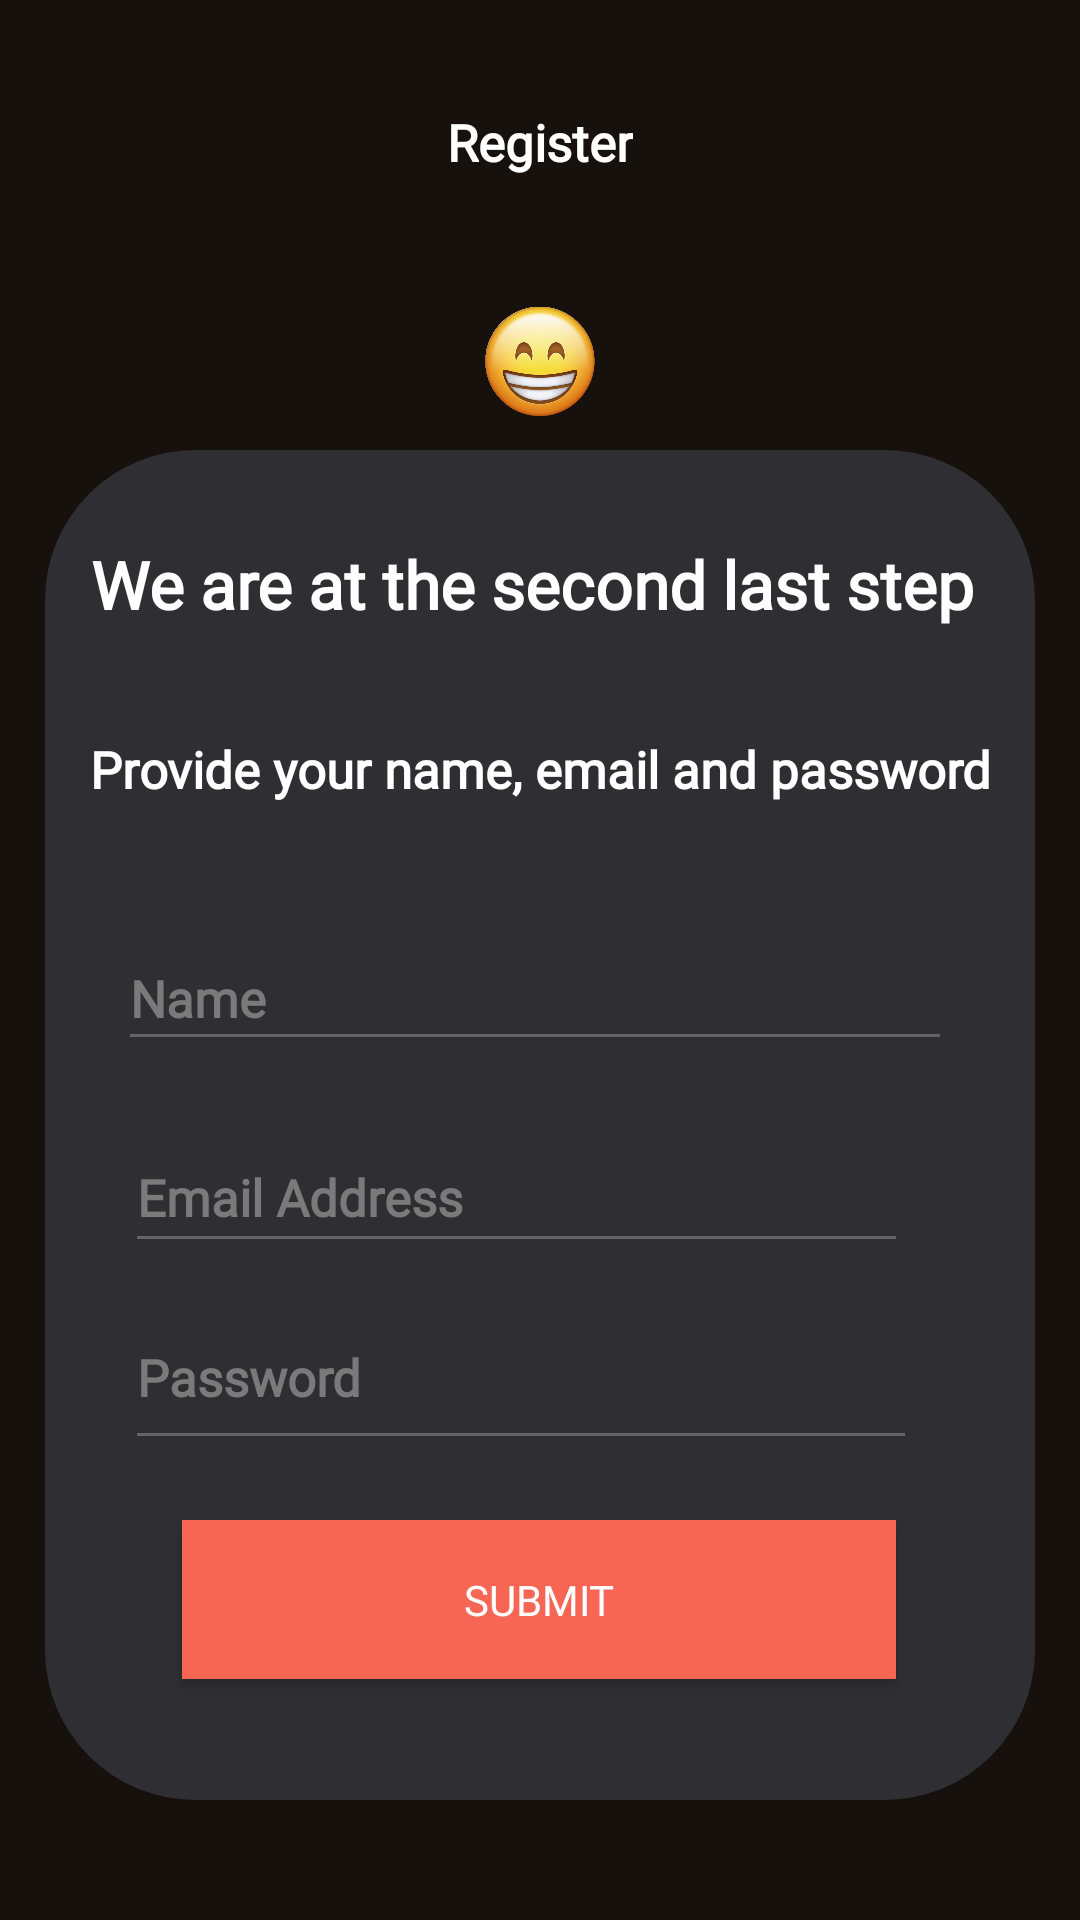

Screen size 1080w x 1920h. Icon name, then its center in pixels as [x,y]:
happyface: [540,361]
